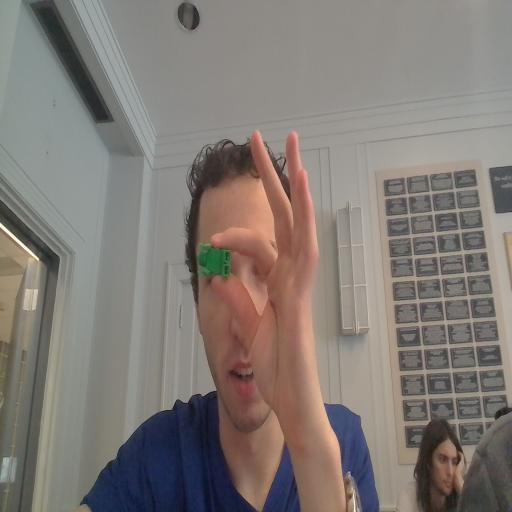green LEGO minifig: (194, 234, 234, 283)
